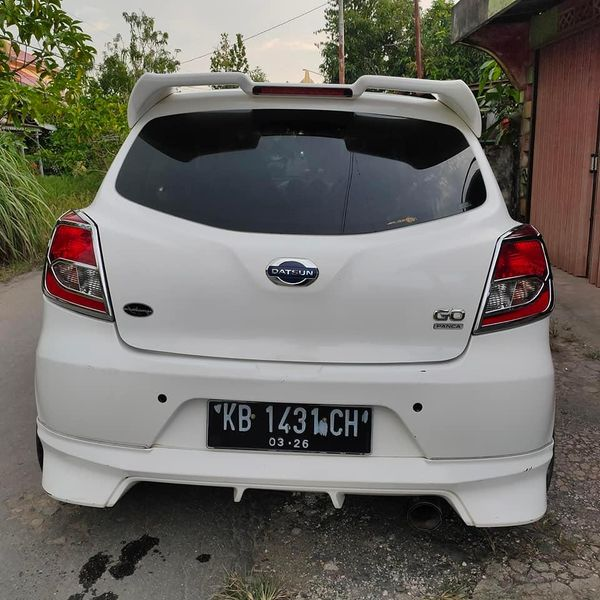plate: (207, 397, 375, 459)
